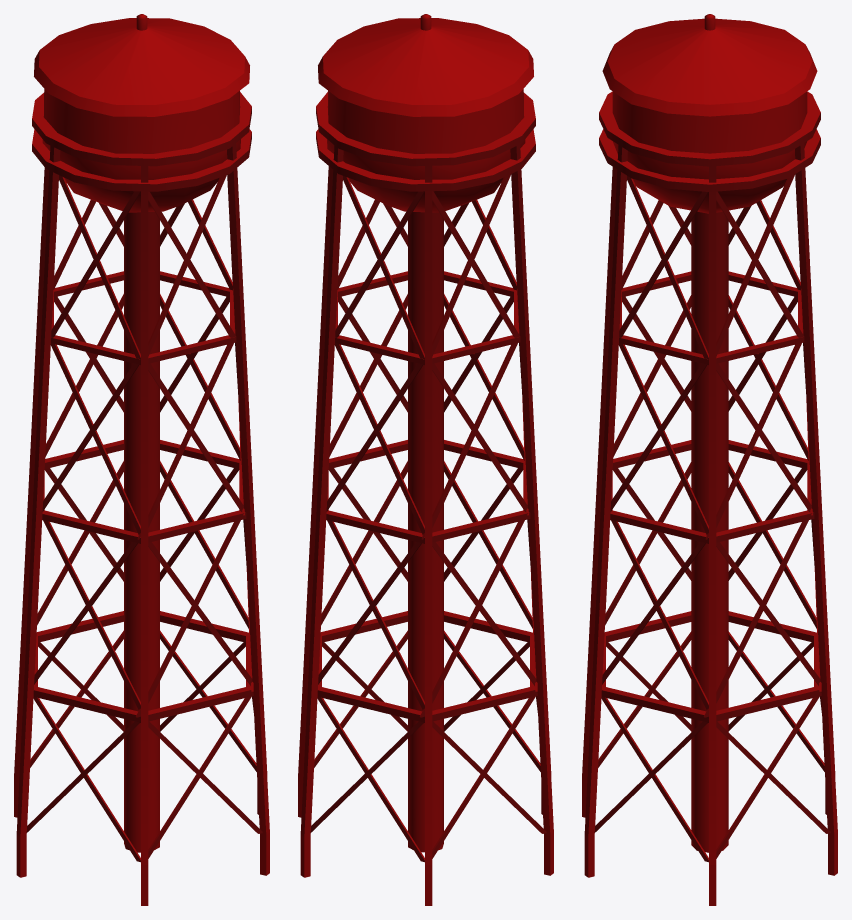
The model's file is buildings-farm-watertower_v1.fbx.
The picture shows the model from 3 angles, left to right: view 1: azimuth 30°, elevation 25°; view 2: azimuth 150°, elevation 25°; view 3: azimuth 270°, elevation 25°; orthographic projection.
Visible parts, largest first — view 1: WaterTower.001; view 2: WaterTower.001; view 3: WaterTower.001.
Boxes of the visible parts, bbox=[...] form: WaterTower.001: bbox=[14, 14, 269, 905]; WaterTower.001: bbox=[298, 14, 553, 905]; WaterTower.001: bbox=[582, 14, 837, 905].
Bounding box in the file's own units: 13.52 × 42.96 × 12.01.
